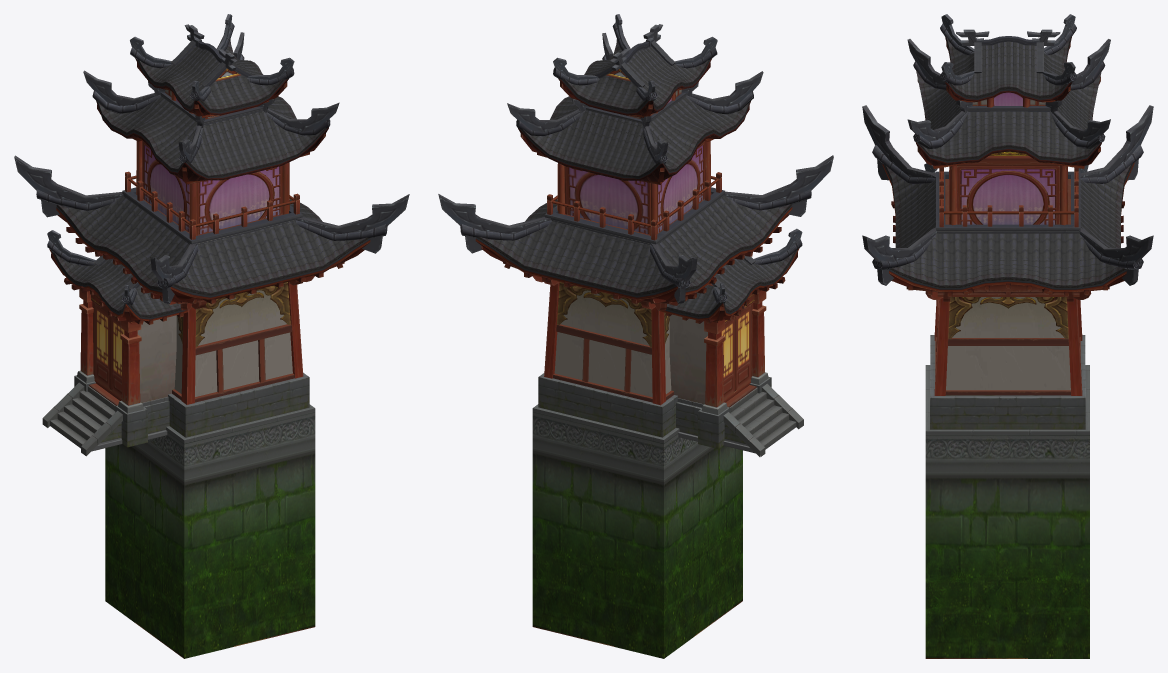
File: ZYbui_CLF_jiaolou03.FBX
The picture shows the model from 3 angles, left to right: view 1: azimuth 30°, elevation 25°; view 2: azimuth 150°, elevation 25°; view 3: azimuth 270°, elevation 25°; orthographic projection. The views are drawn at different scales.
Visible parts, largest first — view 1: ZYbui_CLF_jiaolou03; view 2: ZYbui_CLF_jiaolou03; view 3: ZYbui_CLF_jiaolou03.
Part boxes in pixels (left/top/right/bottom): ZYbui_CLF_jiaolou03: left=14, top=14, right=409, bottom=658; ZYbui_CLF_jiaolou03: left=438, top=14, right=833, bottom=658; ZYbui_CLF_jiaolou03: left=862, top=14, right=1153, bottom=658.
Bounding box in the file's own units: 968 × 1917 × 849.
